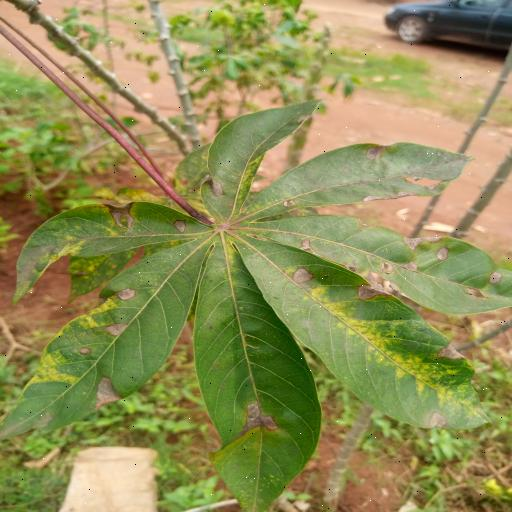Cassava_Mosaic: (18, 104, 512, 503)
